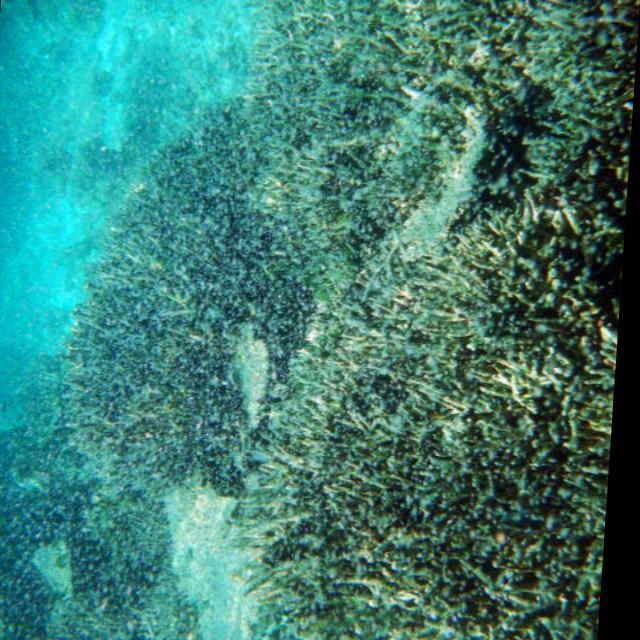Dead Coral: (31, 0, 639, 634), (265, 288, 625, 640), (228, 0, 640, 281), (56, 268, 256, 539)
